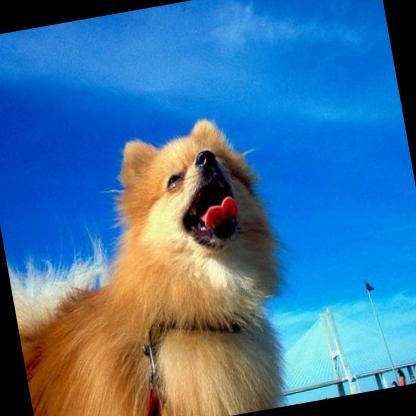Pomeranian: (0, 105, 317, 416)
